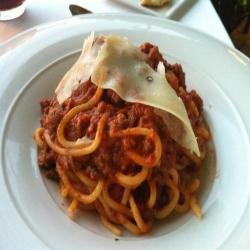bolonese_pasta: (33, 38, 216, 243)
